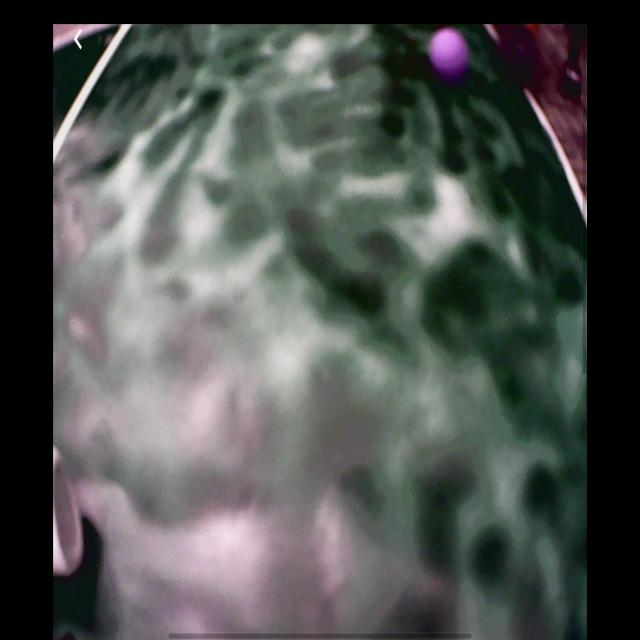ball: (431, 30, 468, 80)
